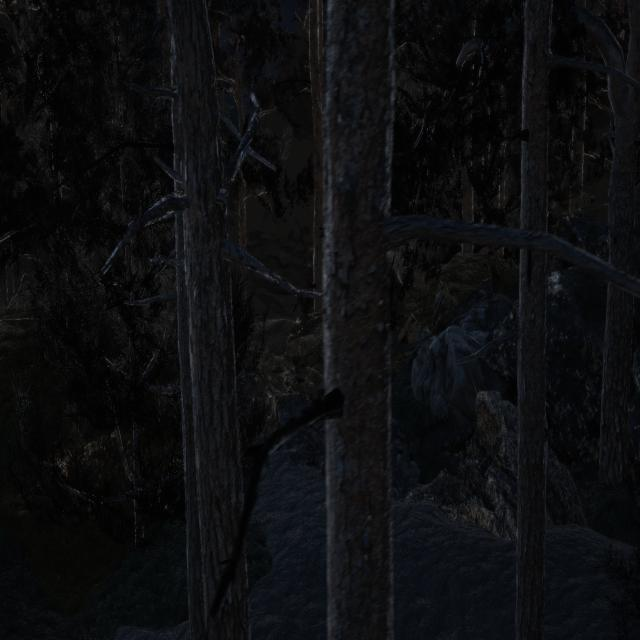Human: (388, 264, 398, 346)
